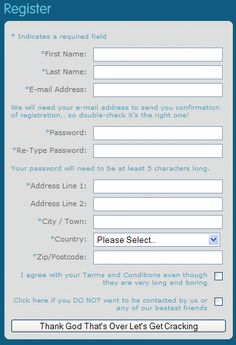button: (10, 313, 227, 333)
dropdown: (90, 232, 224, 248)
